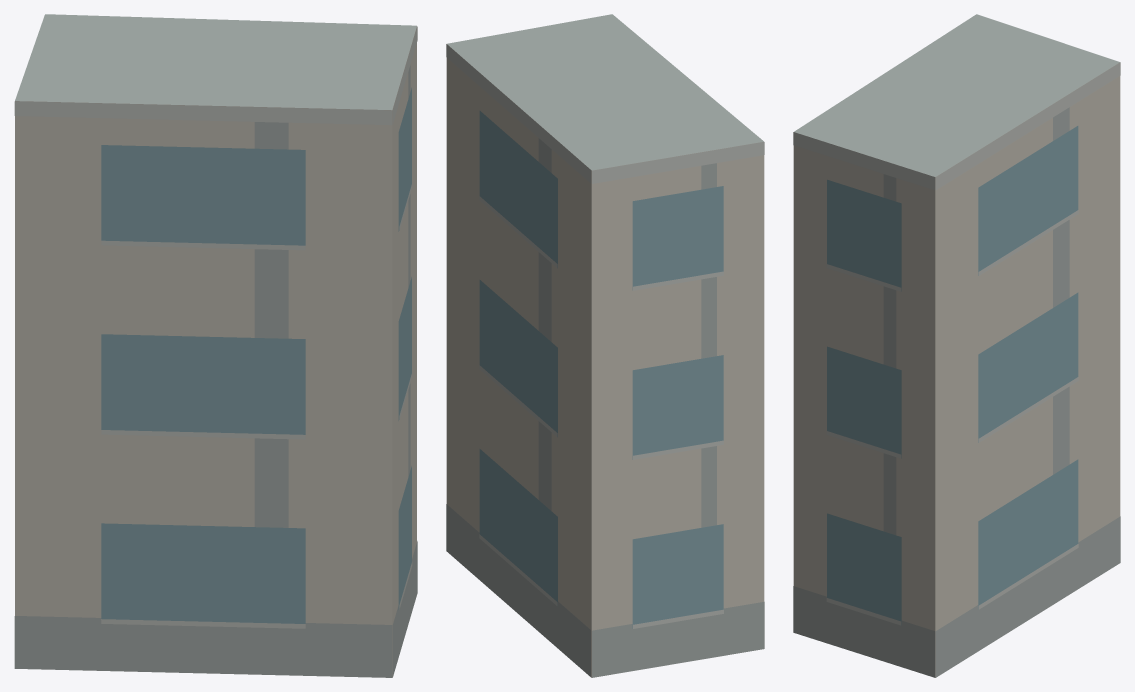
Rendered from survey-upis-32748382.glb.
3 renders of one model, left to right at view 1: azimuth 30°, elevation 25°; view 2: azimuth 150°, elevation 25°; view 3: azimuth 270°, elevation 25°, orthographic. The views are drawn at different scales.
Visible parts, largest first — view 1: survey-upis-32748382.tmp; view 2: survey-upis-32748382.tmp; view 3: survey-upis-32748382.tmp.
Boxes of the visible parts, x1=… form: survey-upis-32748382.tmp: x1=14, y1=14, x2=417, y2=677; survey-upis-32748382.tmp: x1=446, y1=14, x2=764, y2=677; survey-upis-32748382.tmp: x1=793, y1=14, x2=1120, y2=677.
Size of the model in its own units: 6.4 by 9.15 by 5.42.
